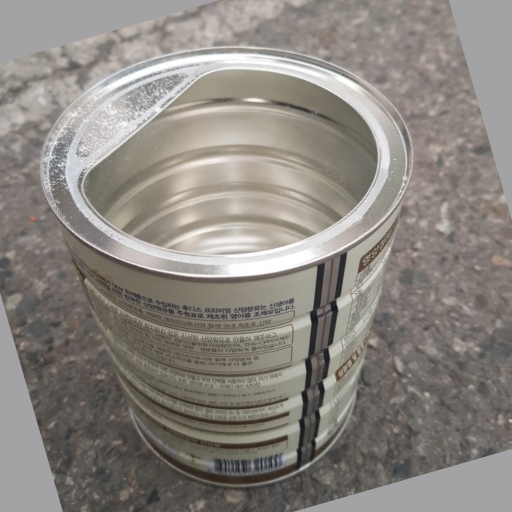Metal_1: (39, 44, 416, 492)
